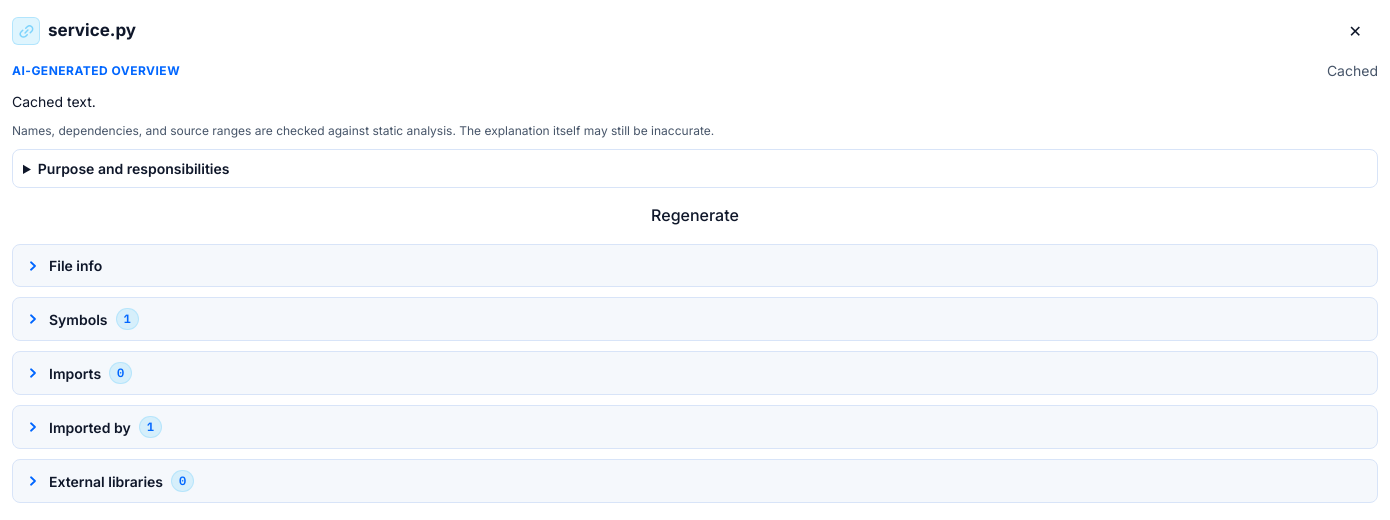
Test case: AI File Overview integration › regenerates only after an explicit click
expect the text "Cached text." is shown: met, box [12, 93, 96, 110]
Click the button "Regenerate" at coordinates (695, 215), box [12, 196, 1378, 234]
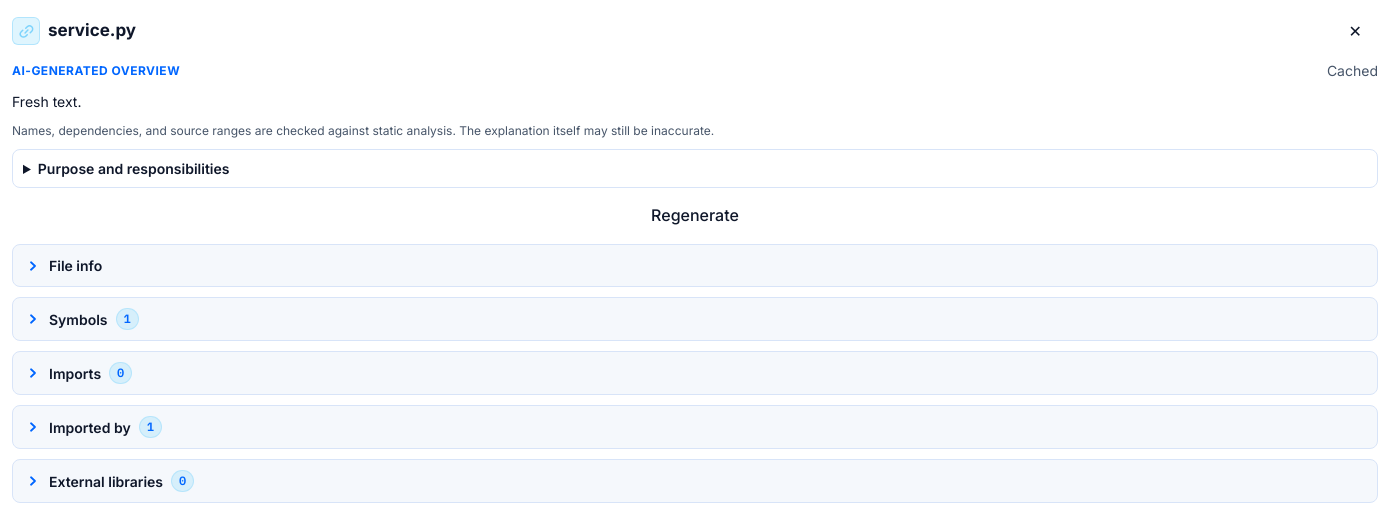
expect the text "Fresh text." is shown: met, box [12, 93, 82, 110]
